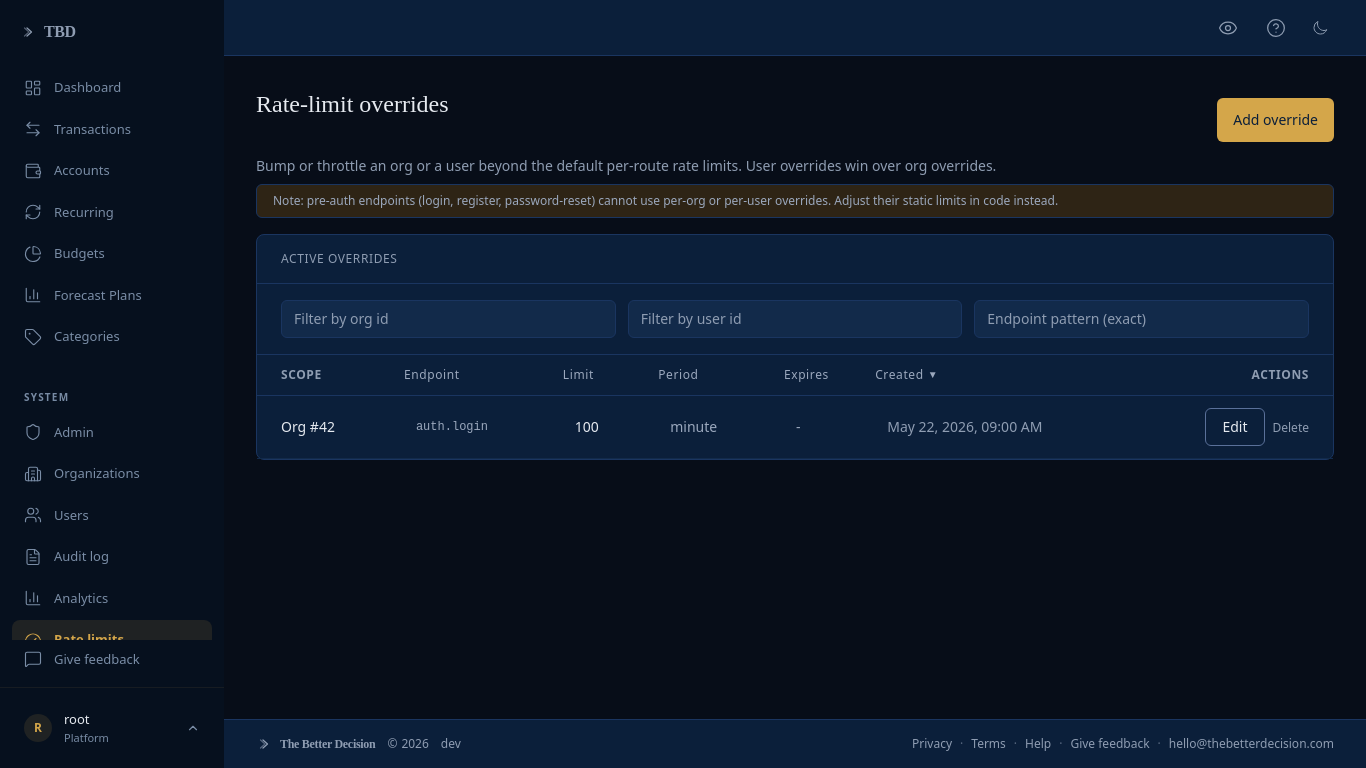
Test: AdminRateLimitOverridesPage › opens the add modal when Add override is clicked
Expected: the text "auth.login" is shown, x1=392 y1=396 x2=551 y2=458
Click the button "Add override".
click(1276, 120)  # box x1=1217 y1=98 x2=1334 y2=142
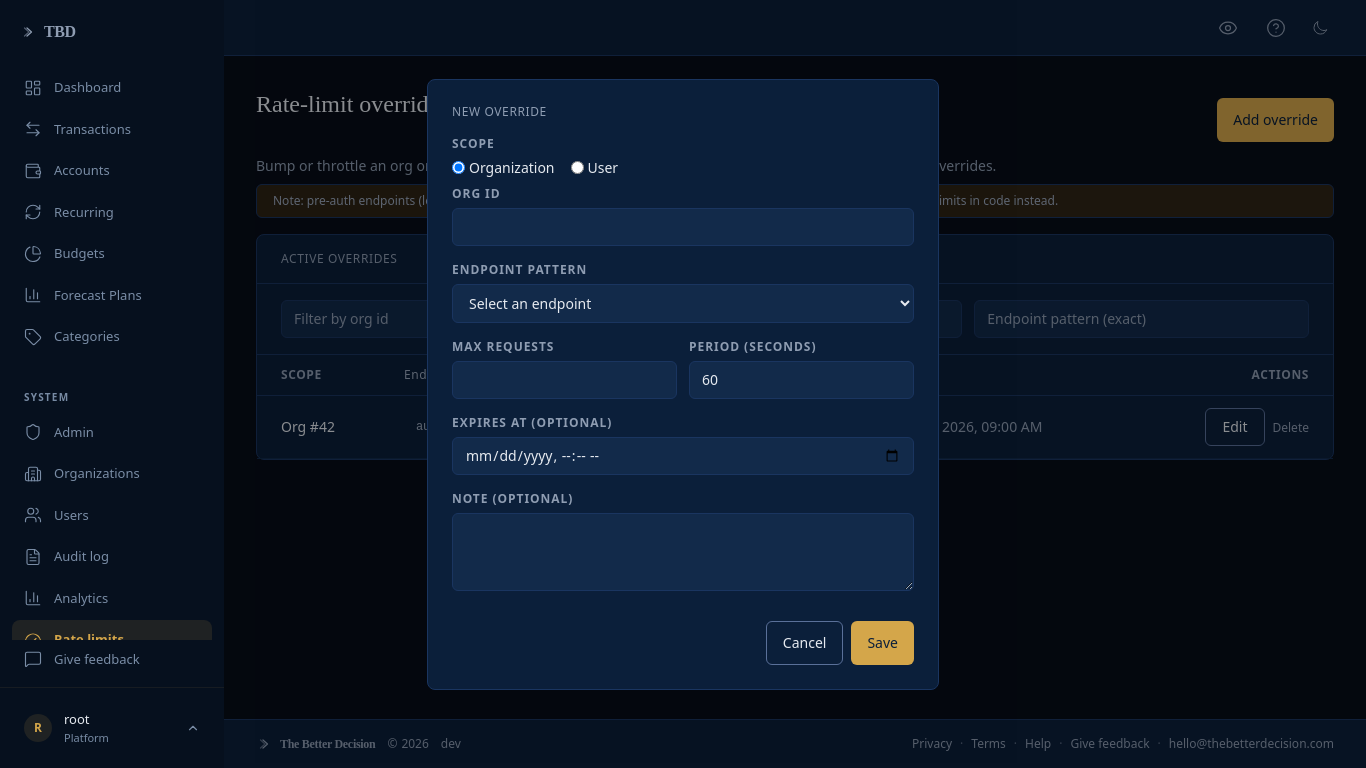
Now the heading "New override" is shown, box x1=452 y1=102 x2=547 y2=120
Now the field labelled "Org id" is shown, box x1=452 y1=208 x2=914 y2=246
